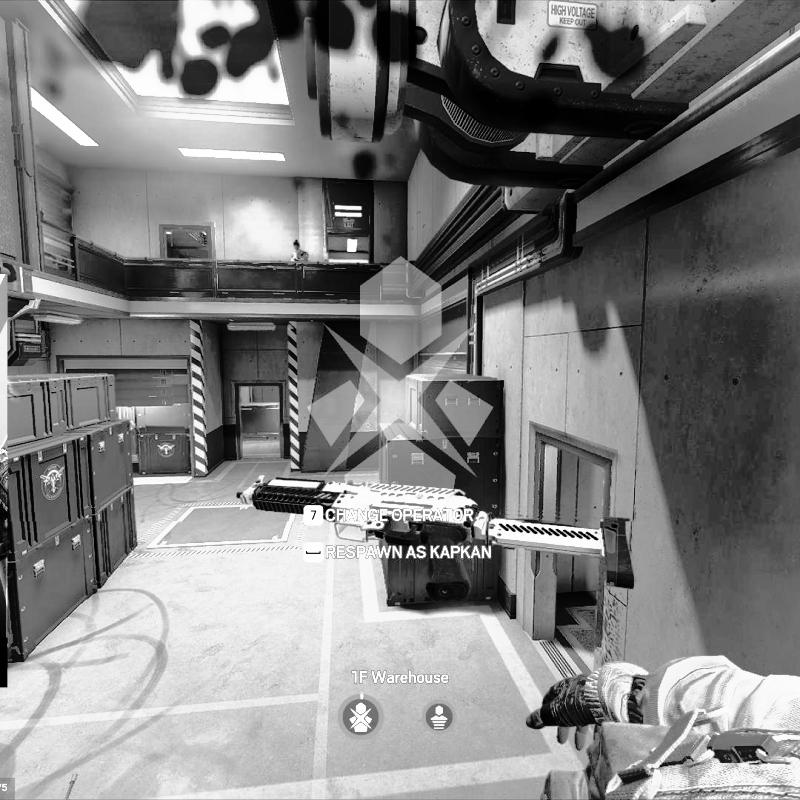Character: (288, 238, 309, 263)
Head: (292, 239, 301, 250)
